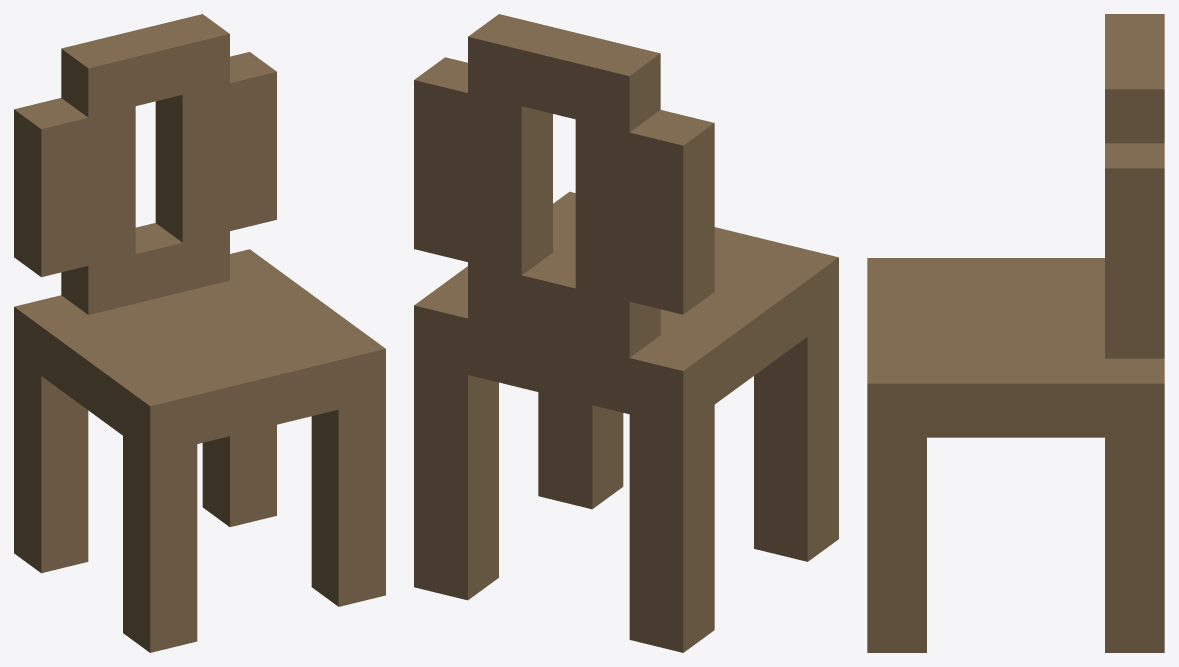
The model's file is Chair1.obj.
3 views of the same model, side by side, from view 1: azimuth 30°, elevation 25°; view 2: azimuth 150°, elevation 25°; view 3: azimuth 270°, elevation 25° (orthographic). The views are drawn at different scales.
Visible parts, largest first — view 1: Chair1; view 2: Chair1; view 3: Chair1.
Part boxes in pixels (left/top/right/bottom): Chair1: left=14, top=14, right=385, bottom=652; Chair1: left=414, top=14, right=838, bottom=652; Chair1: left=867, top=14, right=1164, bottom=652.
Bounding box in the file's own units: 5 × 10 × 5.
